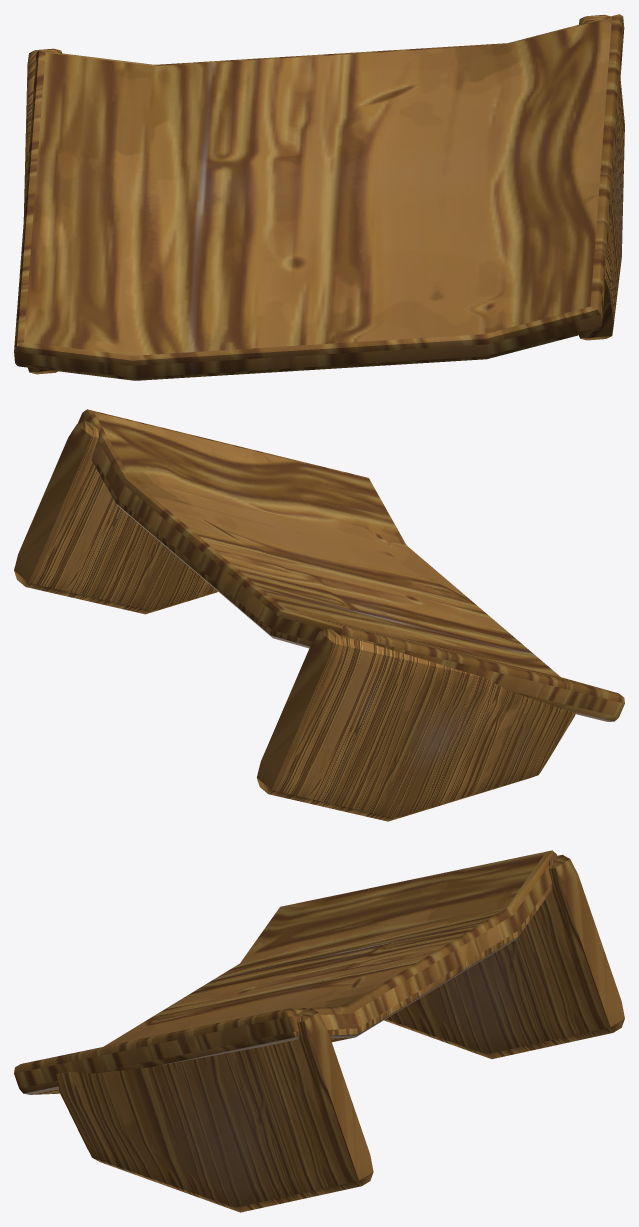
Rendered from Shelf.fbx.
The picture shows the model from 3 angles, top to bottom: view 1: azimuth 30°, elevation 25°; view 2: azimuth 150°, elevation 25°; view 3: azimuth 270°, elevation 25°; orthographic projection. The views are drawn at different scales.
Visible parts, largest first — view 1: polySurface53; view 2: polySurface53; view 3: polySurface53.
Part boxes in pixels (x1,y1,x2,y2): polySurface53: [14, 14, 624, 380]; polySurface53: [14, 409, 624, 821]; polySurface53: [14, 850, 624, 1212].
Bounding box in the file's own units: 4.38 × 1.74 × 3.9.
Materials: 1 (1 with a texture image).
